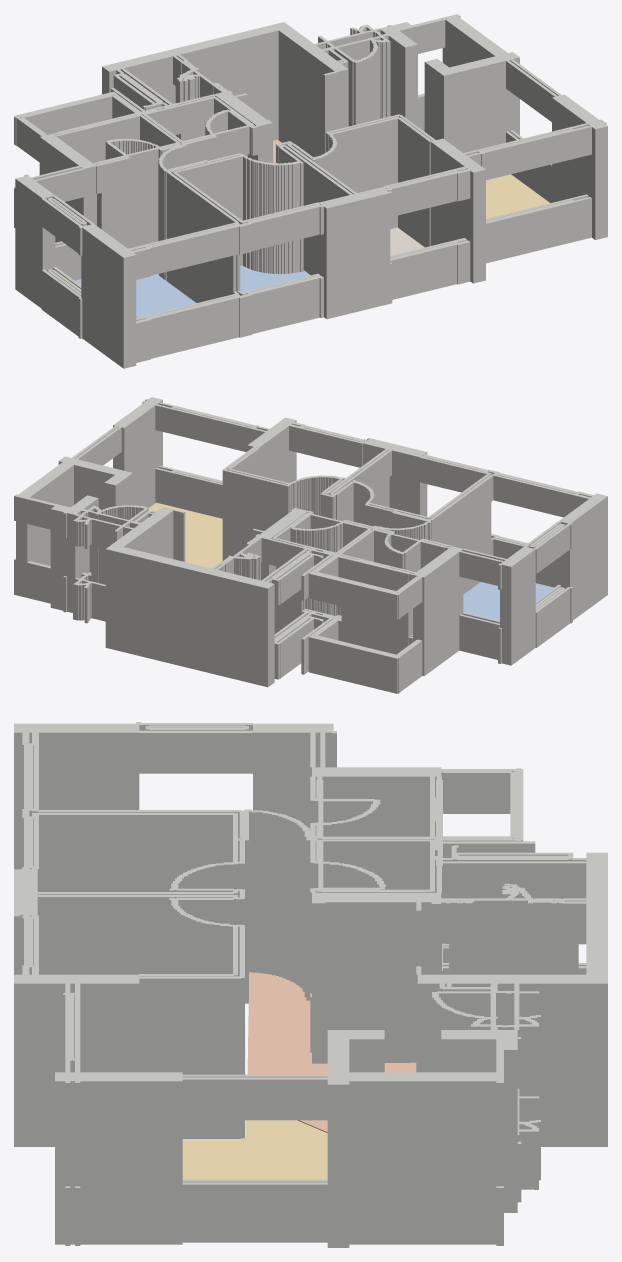
3 views of the same model, one above another, from view 1: azimuth 30°, elevation 25°; view 2: azimuth 150°, elevation 25°; view 3: azimuth 270°, elevation 25° (orthographic). The views are drawn at different scales.
Visible parts, largest first — view 1: walls, room:living:6, room:bedroom:2, room:bedroom:3, room:other:15; view 2: walls, room:living:6, room:bedroom:2; view 3: walls, room:living:6, room:kitchen:1.
Boxes of the visible parts, box(x1,y1,x2,y2) form: walls: box(14, 14, 607, 368); room:living:6: box(486, 174, 549, 218); room:bedroom:2: box(75, 274, 196, 317); room:bedroom:3: box(240, 265, 310, 291); room:other:15: box(390, 227, 424, 255); walls: box(14, 397, 607, 693); room:living:6: box(148, 502, 222, 568); room:bedroom:2: box(463, 582, 553, 620); walls: box(14, 722, 607, 1247); room:living:6: box(182, 1023, 327, 1179); room:kitchen:1: box(247, 972, 416, 1132).
Bounding box in the file's own units: 13.35 × 2.8 × 9.24.
